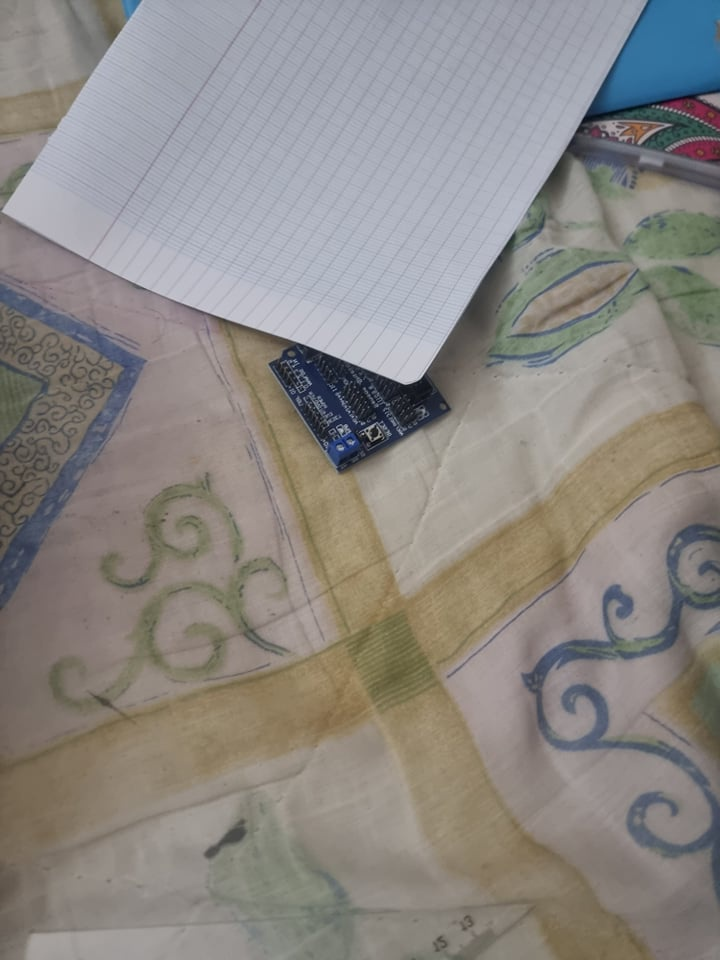5V EXPANSION: (266, 342, 452, 476)
